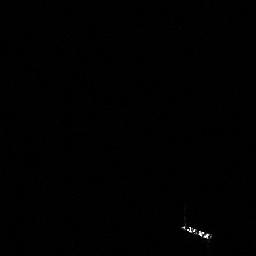ship: (177, 221, 216, 242)
